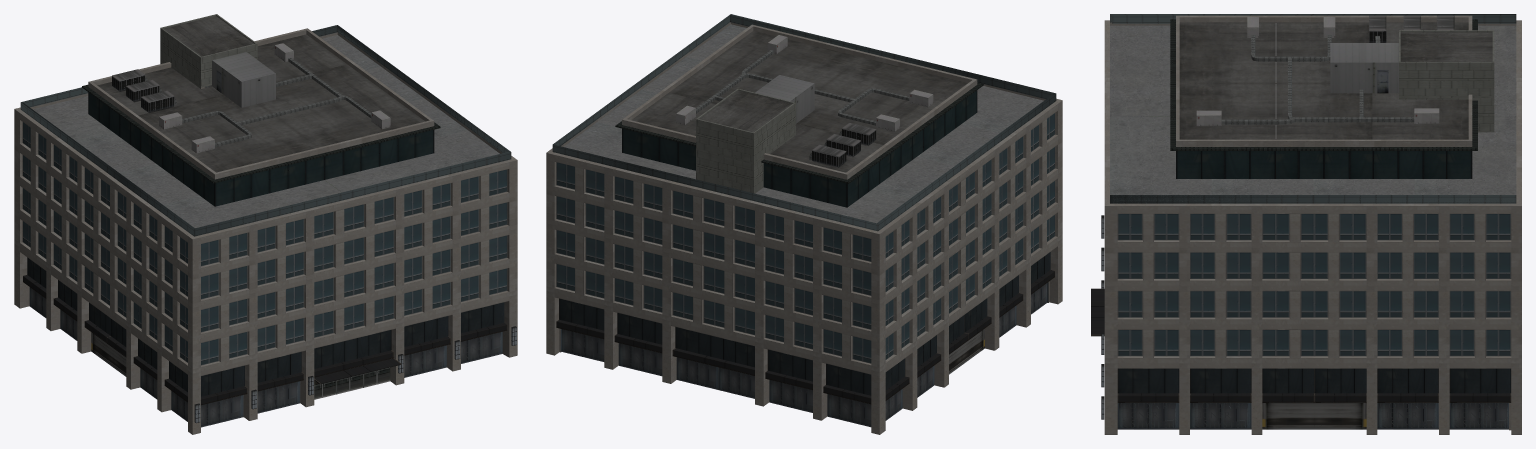
The picture shows the model from 3 angles, left to right: view 1: azimuth 30°, elevation 25°; view 2: azimuth 150°, elevation 25°; view 3: azimuth 270°, elevation 25°; orthographic projection. The views are drawn at different scales.
Parts seen in each view (by area): view 1: AIT01W2W3; view 2: AIT01W2W3; view 3: AIT01W2W3.
Part boxes in pixels (x1,y1,x2,y2): AIT01W2W3: (14, 14, 517, 434); AIT01W2W3: (546, 14, 1062, 434); AIT01W2W3: (1091, 14, 1521, 434).
Size of the model in its own units: 3200 by 2376 by 3137.
1 material, 1 textured.
